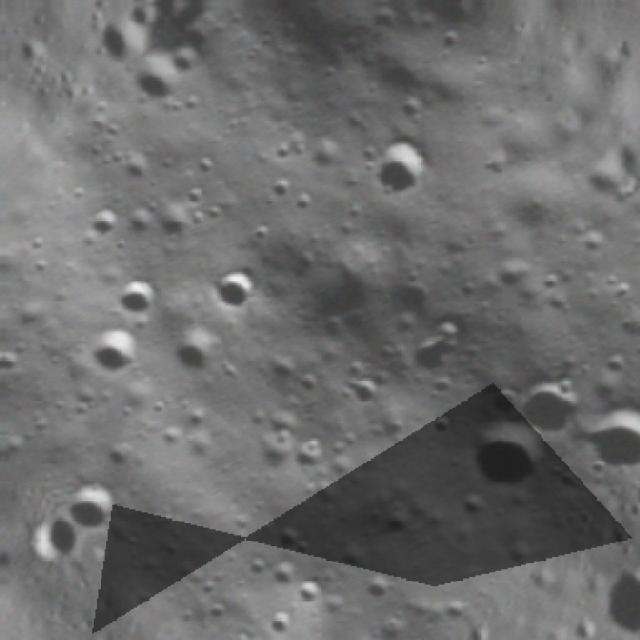crater: (449, 403, 557, 511), (351, 122, 444, 213), (567, 380, 640, 484), (504, 363, 590, 449), (113, 39, 195, 121), (53, 466, 133, 546), (98, 254, 176, 332), (76, 310, 153, 388), (397, 307, 474, 384), (160, 313, 231, 385), (200, 254, 266, 320), (386, 268, 448, 330), (266, 516, 322, 572), (475, 373, 530, 429), (346, 557, 402, 612), (477, 18, 529, 77), (76, 190, 126, 242), (264, 552, 311, 599), (284, 568, 330, 614), (195, 624, 313, 640), (259, 600, 299, 640)
